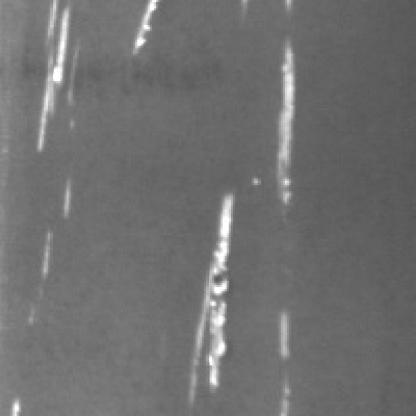scratches: (181, 187, 235, 393), (27, 0, 69, 150), (266, 35, 296, 200), (269, 308, 294, 410), (125, 0, 158, 52)
